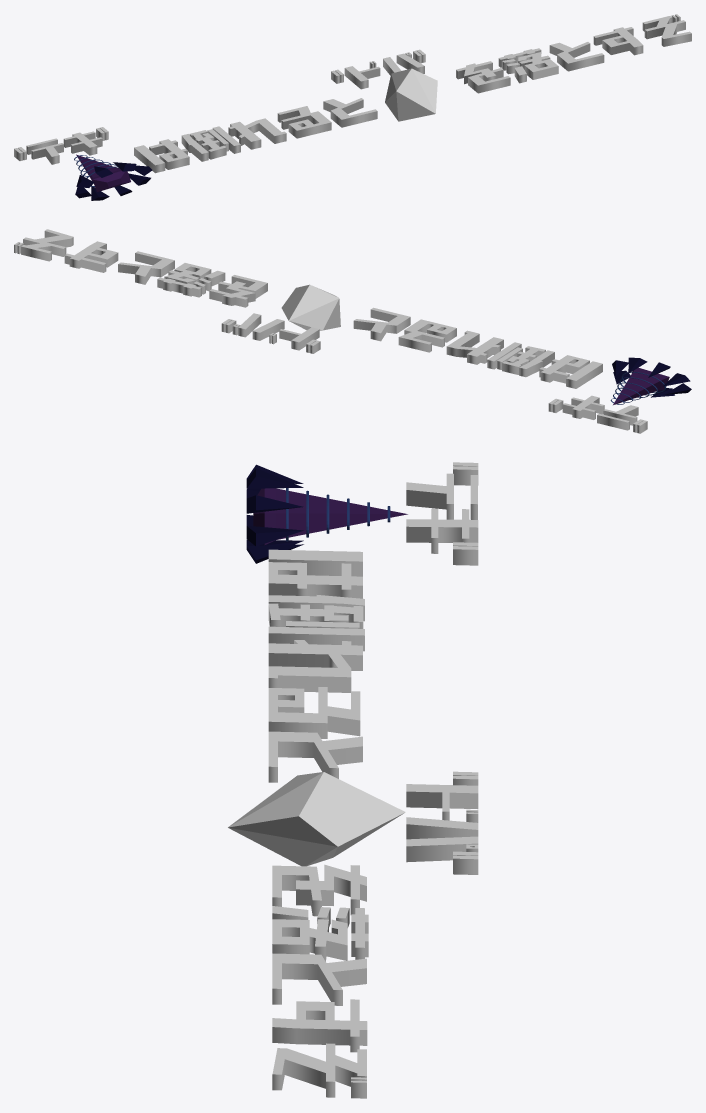
The model's file is tutorialText11.obj.
The picture shows the model from 3 angles, top to bottom: view 1: azimuth 30°, elevation 25°; view 2: azimuth 150°, elevation 25°; view 3: azimuth 270°, elevation 25°; orthographic projection. The views are drawn at different scales.
Visible parts, largest first — view 1: Text.004, Text.002, Sphere.001, トーラス.004, Text.003, Text.005; view 2: Text.004, Text.002, トーラス.004, Sphere.001, Text.003, Text.005; view 3: Text.004, Text.002, Sphere.001, トーラス.004, Text.005, Text.003.
Boxes of the visible parts, box(x1,y1,x2,y2) form: Text.004: box(134, 98, 377, 173); Text.002: box(456, 14, 691, 93); Sphere.001: box(385, 68, 437, 121); トーラス.004: box(74, 154, 152, 200); Text.003: box(14, 127, 108, 164); Text.005: box(331, 49, 425, 89); Text.004: box(353, 307, 602, 388); Text.002: box(14, 229, 267, 307); トーラス.004: box(610, 357, 691, 404); Sphere.001: box(281, 284, 340, 330); Text.003: box(548, 395, 647, 433); Text.005: box(221, 313, 320, 353); Text.004: box(268, 549, 364, 782); Text.002: box(272, 864, 368, 1098); Sphere.001: box(228, 772, 405, 866); トーラス.004: box(246, 464, 407, 563); Text.005: box(406, 771, 478, 874); Text.003: box(406, 462, 478, 565).
Bounding box in the file's own units: 8.42 × 0.5442 × 1.44.
